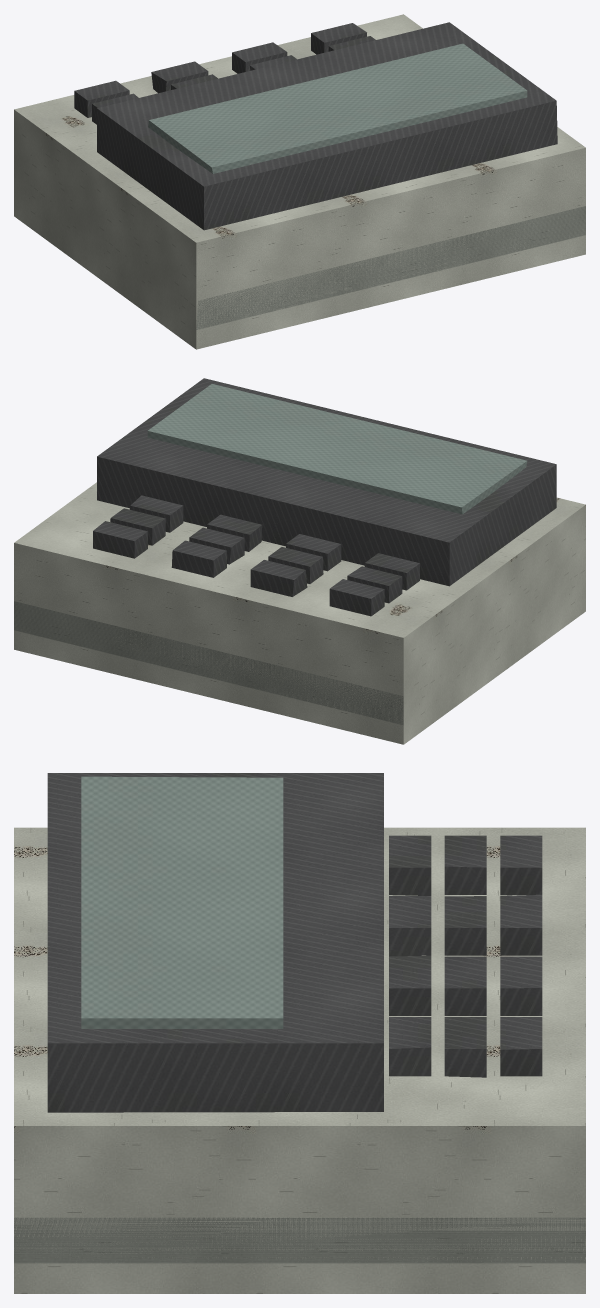
The model's file is register_v3.glb.
3 views of the same model, one above another, from view 1: azimuth 30°, elevation 25°; view 2: azimuth 150°, elevation 25°; view 3: azimuth 270°, elevation 25° (orthographic). The views are drawn at different scales.
Visible parts, largest first — view 1: Variant_register_3; view 2: Variant_register_3; view 3: Variant_register_3.
Part boxes in pixels (x1=…): Variant_register_3: x1=14, y1=14, x2=585, y2=349; Variant_register_3: x1=14, y1=378, x2=585, y2=744; Variant_register_3: x1=14, y1=773, x2=585, y2=1293.
Size of the model in its own units: 0.42 by 0.162 by 0.34.
Materials: 4 (4 with a texture image).
